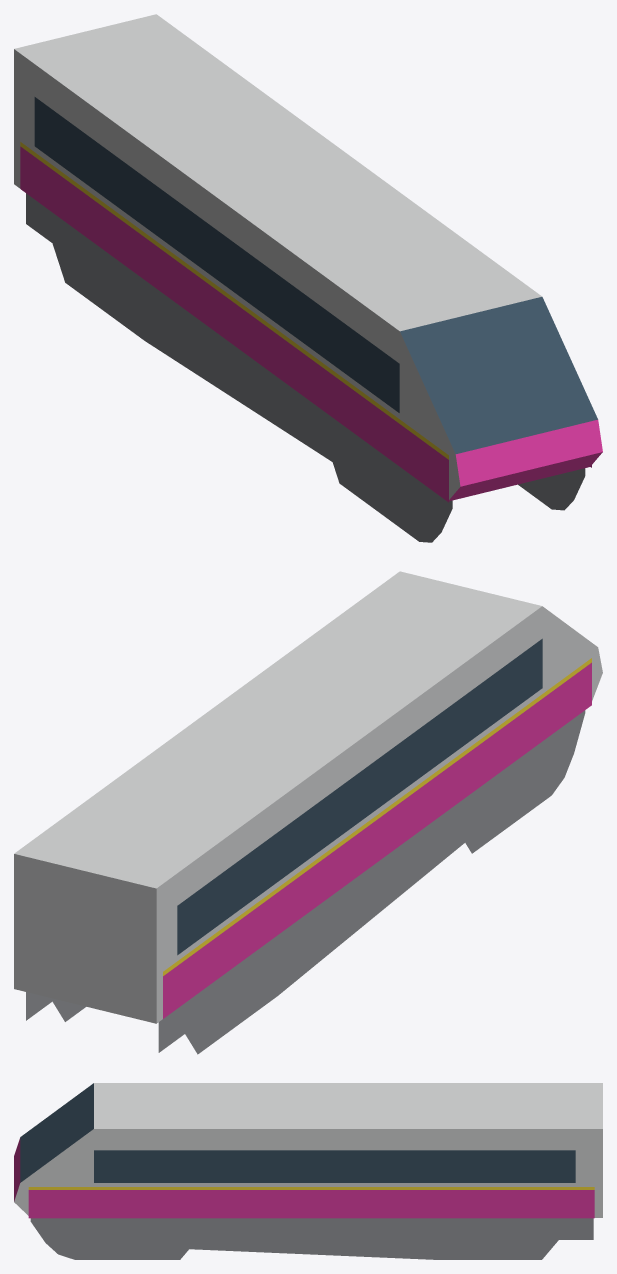
The model's file is 4_far.fbx.
The picture shows the model from 3 angles, top to bottom: view 1: azimuth 30°, elevation 25°; view 2: azimuth 150°, elevation 25°; view 3: azimuth 270°, elevation 25°; orthographic projection. The views are drawn at different scales.
Visible parts, largest first — view 1: 24_4_far; view 2: 24_4_far; view 3: 24_4_far.
Boxes of the visible parts, box(x1,y1,x2,y2) form: 24_4_far: box(14, 14, 602, 542); 24_4_far: box(14, 571, 602, 1054); 24_4_far: box(14, 1083, 602, 1259).
Bounding box in the file's own units: 2.59 × 3.48 × 14.
